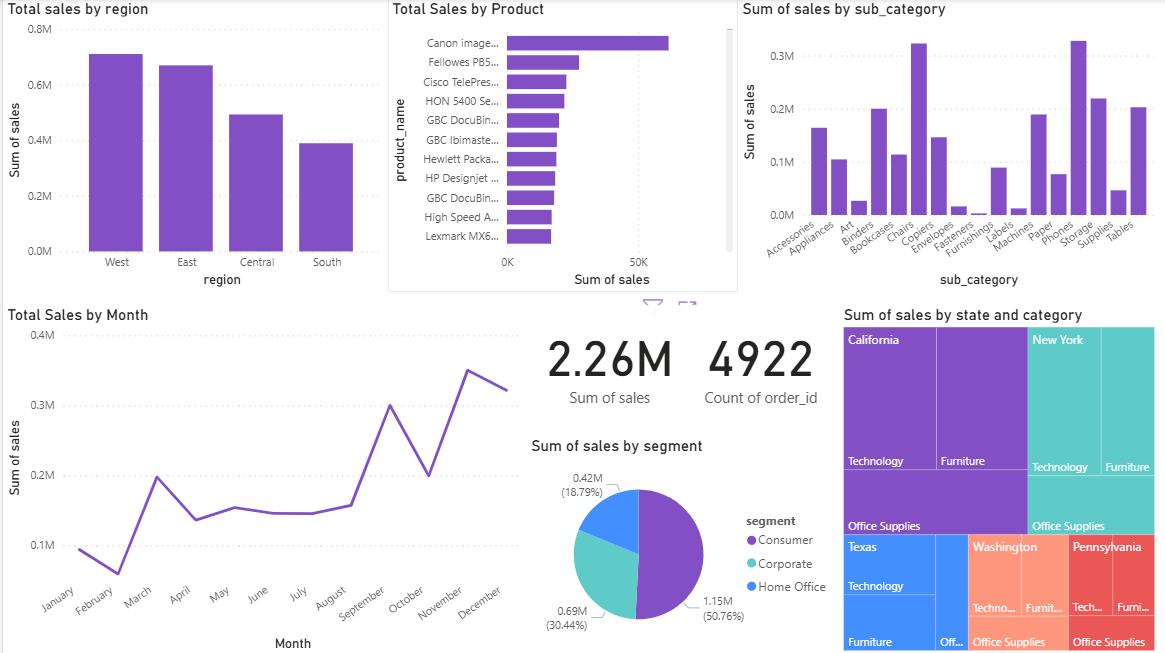

The dashboard page shown, as its layout file describes it:
{"tool":"powerbi","page":{"name":"Page 1","canvas":[1280,720],"ordinal":0},"visuals":[{"type":"columnChart","title":"Total sales by region","fields":{"Category":["clean_orders.region"],"Y":["Sum(clean_orders.sales)"]},"box":[0,0,422.6,321.1],"z":0},{"type":"barChart","title":"Total Sales by Product","fields":{"Y":["Sum(clean_orders.sales)"],"Category":["clean_orders.product_name"]},"box":[422.6,0,384.2,321.1],"z":1000},{"type":"lineChart","title":"Total Sales by Month","fields":{"Y":["Sum(clean_orders.sales)"],"Category":["clean_orders.order_date.Variation.Date Hierarchy.Month"]},"box":[0,336.2,575,384.2],"z":2000},{"type":"columnChart","fields":{"Y":["Sum(clean_orders.sales)"],"Category":["clean_orders.category","clean_orders.sub_category"]},"box":[806.9,0,462.4,321.1],"z":3000},{"type":"pieChart","fields":{"Y":["Sum(clean_orders.sales)"],"Category":["clean_orders.segment"]},"box":[575,480.3,343.1,240.1],"z":4000},{"type":"treemap","fields":{"Values":["Sum(clean_orders.sales)"],"Group":["clean_orders.state"],"Details":["clean_orders.category"]},"box":[918,336.2,351.3,384.2],"z":5000},{"type":"card","fields":{"Values":["Sum(clean_orders.sales)"]},"box":[575,336.2,182.5,126.2],"z":6000},{"type":"card","fields":{"Values":["Count(clean_orders.order_id)"]},"box":[746.5,336.2,171.5,126.2],"z":7000}]}

Visuals, with their boxes in screenshot pixels (x1, y1, x2, y2), scaled from the page's 1280x720 canvas onto the 1165x653 screenshot:
"Total sales by region" columnChart: 0/0/385/291
"Total Sales by Product" barChart: 385/0/734/291
"Total Sales by Month" lineChart: 0/305/523/652
columnChart - Sum(clean_orders.sales) x clean_orders.category: 734/0/1155/291
pieChart - Sum(clean_orders.sales) x clean_orders.segment: 523/436/836/652
treemap - Sum(clean_orders.sales) x clean_orders.state: 836/305/1155/652
card - Sum(clean_orders.sales): 523/305/689/419
card - Count(clean_orders.order_id): 679/305/836/419
